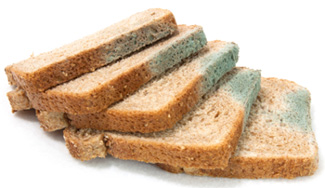Mucor: (219, 64, 266, 123), (204, 44, 241, 87), (163, 38, 202, 72), (283, 88, 309, 131), (102, 38, 155, 59)
